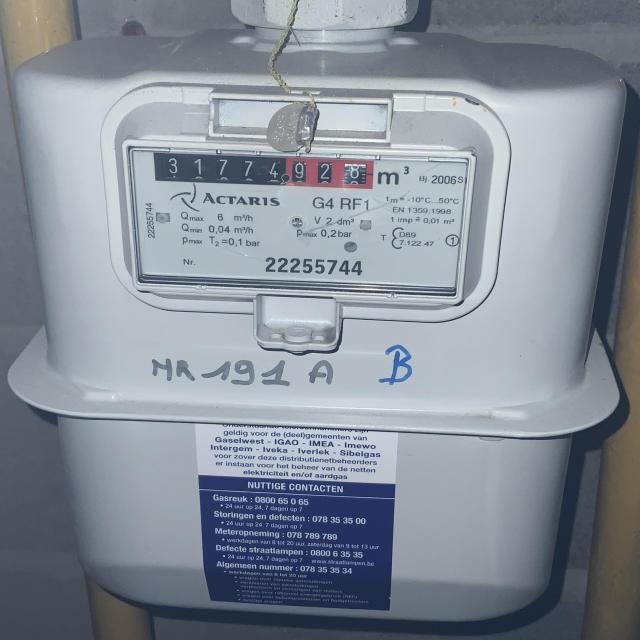gaz_meter: (120, 126, 467, 293)
indication: (157, 149, 374, 190)
